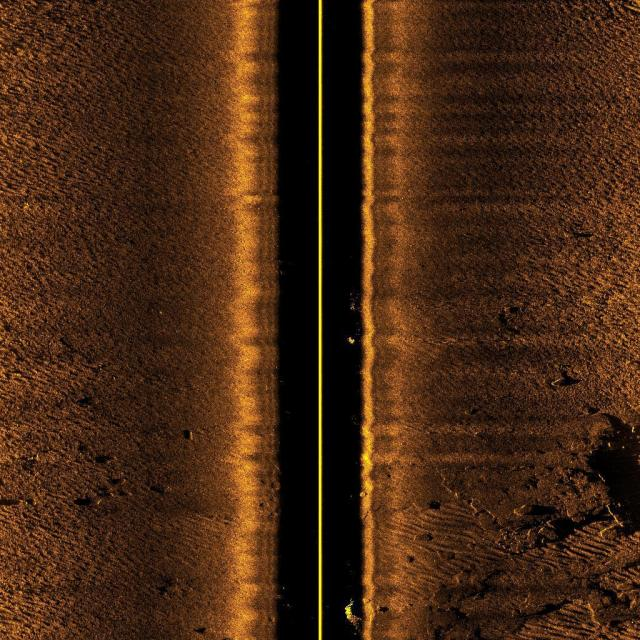mine: (546, 374, 582, 388), (179, 427, 196, 442)
